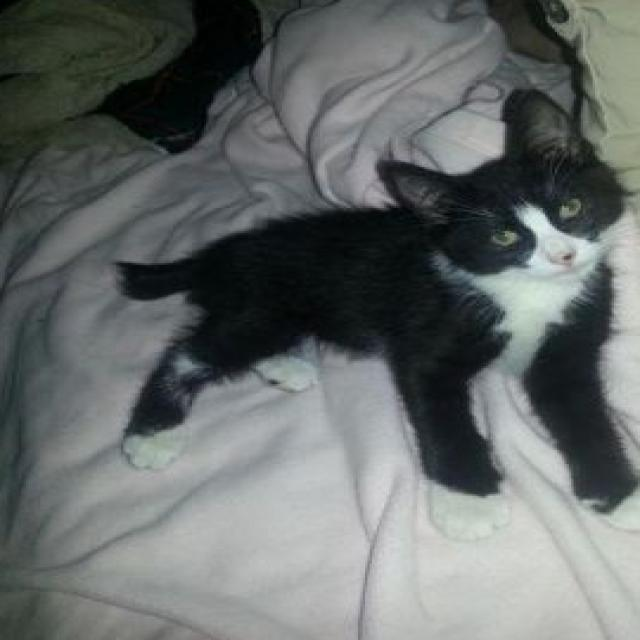American Bobtail: (106, 76, 640, 543)
